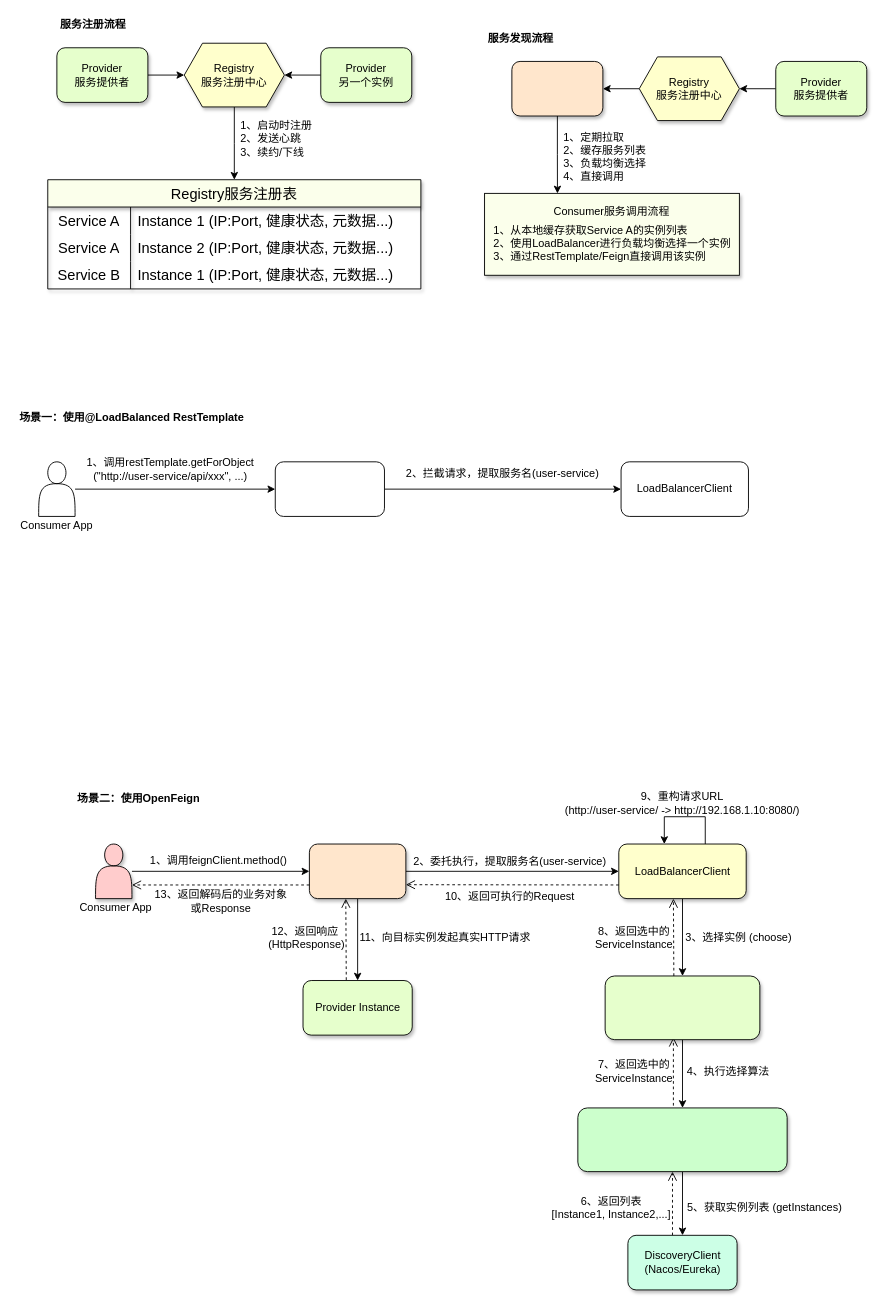
Some shapes in this 888 by 1312 pixel diagram are drawn without their labels. Here are the shapes that lost their labels. From the top down, the centre of each, then its label:
point (557, 89): Consumer 服务消费者
point (329, 488): @LoadBalanced RestTemplate
point (358, 872): @FeignClient 动态代理
point (683, 1008): BlockingLoadBalancerClient
point (683, 1140): ReactorServiceInstanceLoadBalancer
